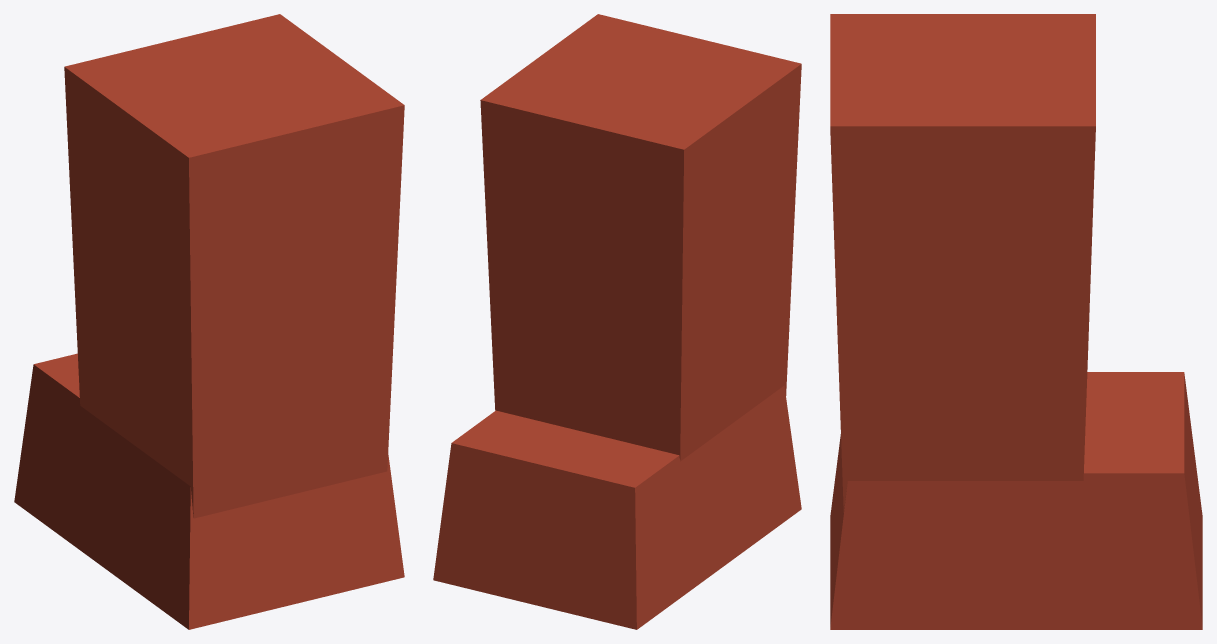
File: animal_hermitcrab_leg.obj
3 renders of one model, left to right at view 1: azimuth 30°, elevation 25°; view 2: azimuth 150°, elevation 25°; view 3: azimuth 270°, elevation 25°, orthographic. The views are drawn at different scales.
Parts seen in each view (by area): view 1: animal_hermitcrab_leg; view 2: animal_hermitcrab_leg; view 3: animal_hermitcrab_leg.
Part boxes in pixels (x1=…): animal_hermitcrab_leg: x1=14, y1=14, x2=404, y2=629; animal_hermitcrab_leg: x1=433, y1=14, x2=801, y2=629; animal_hermitcrab_leg: x1=830, y1=14, x2=1202, y2=629.
Size of the model in its own units: 0.0244 by 0.051 by 0.0342.
